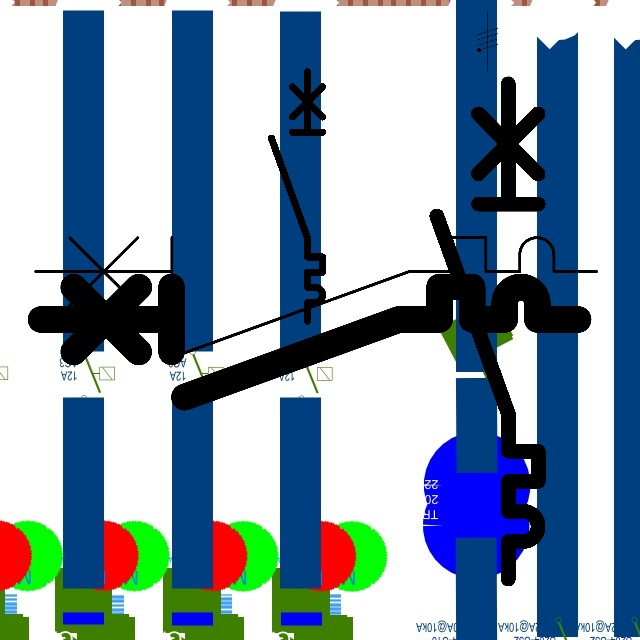interruptor_termomagnetico: (21, 223, 611, 367), (27, 273, 592, 411), (424, 70, 551, 591), (265, 65, 329, 328)
